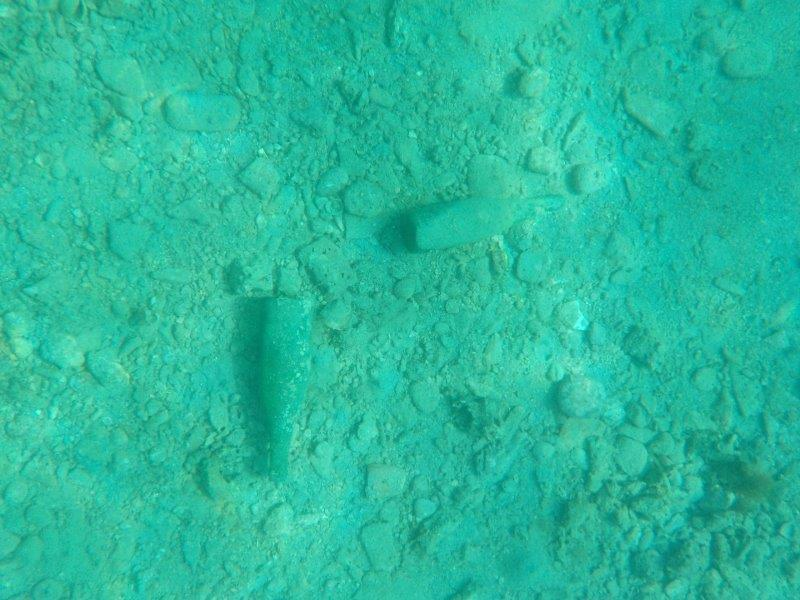bottle: (253, 287, 312, 491), (398, 190, 571, 254)
